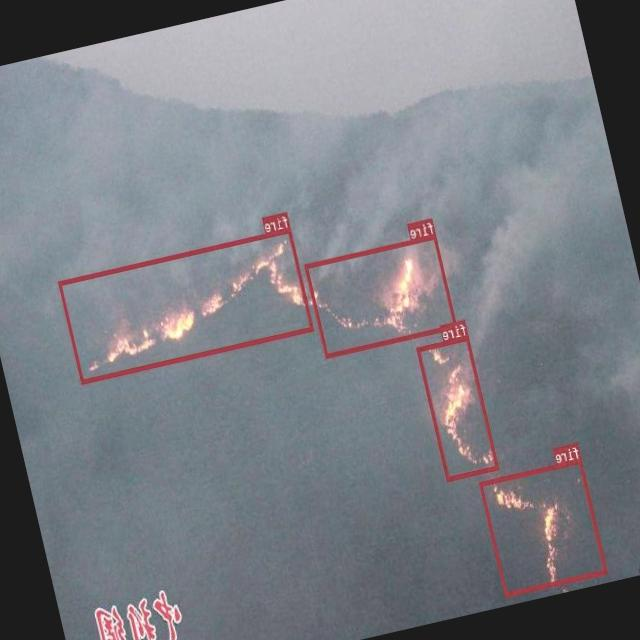fire: (58, 226, 315, 383), (304, 232, 458, 358), (478, 456, 608, 596), (416, 334, 499, 480)
